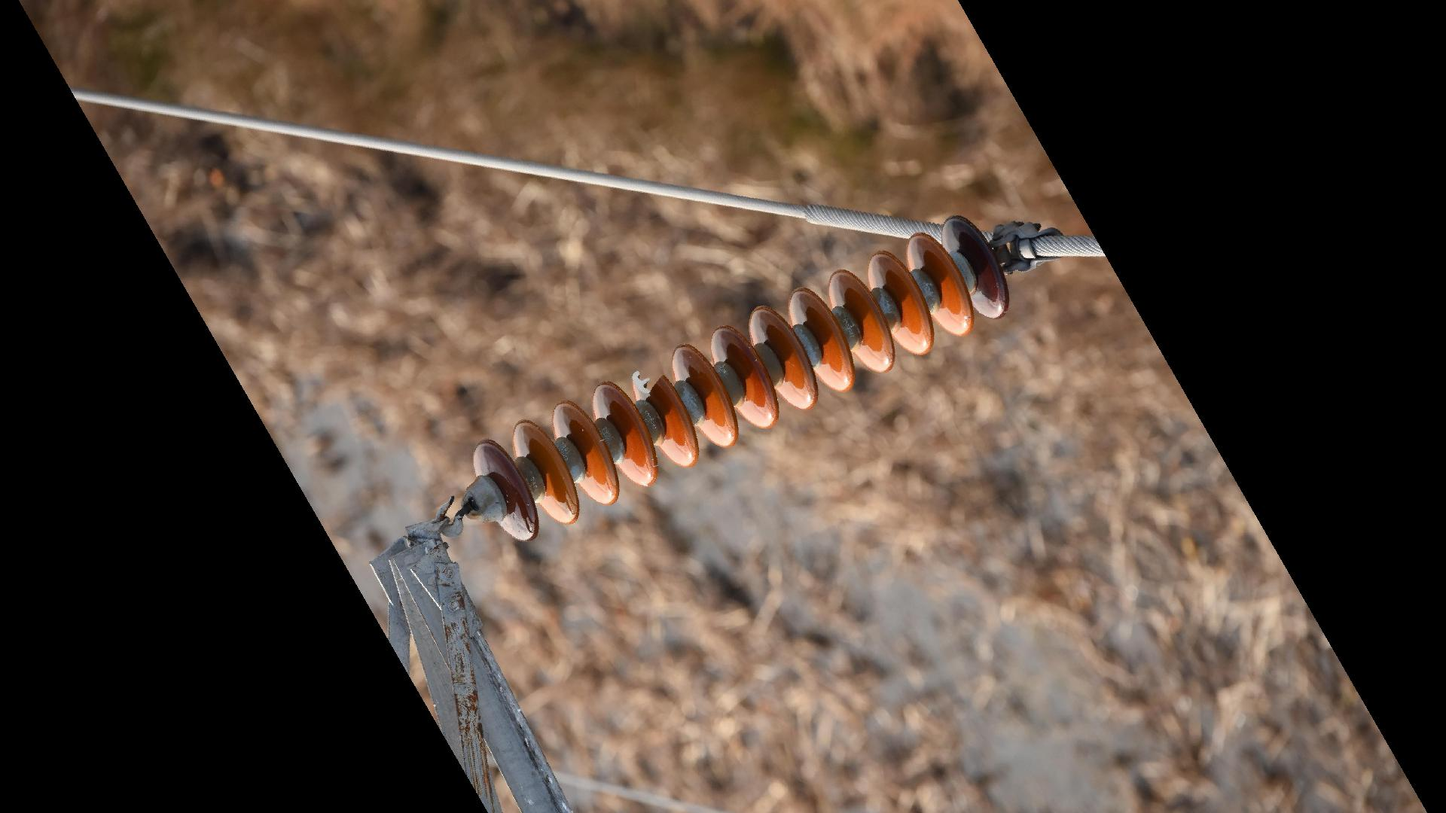insulator: (468, 207, 1016, 547)
insulator_breakage: (624, 364, 674, 405)
